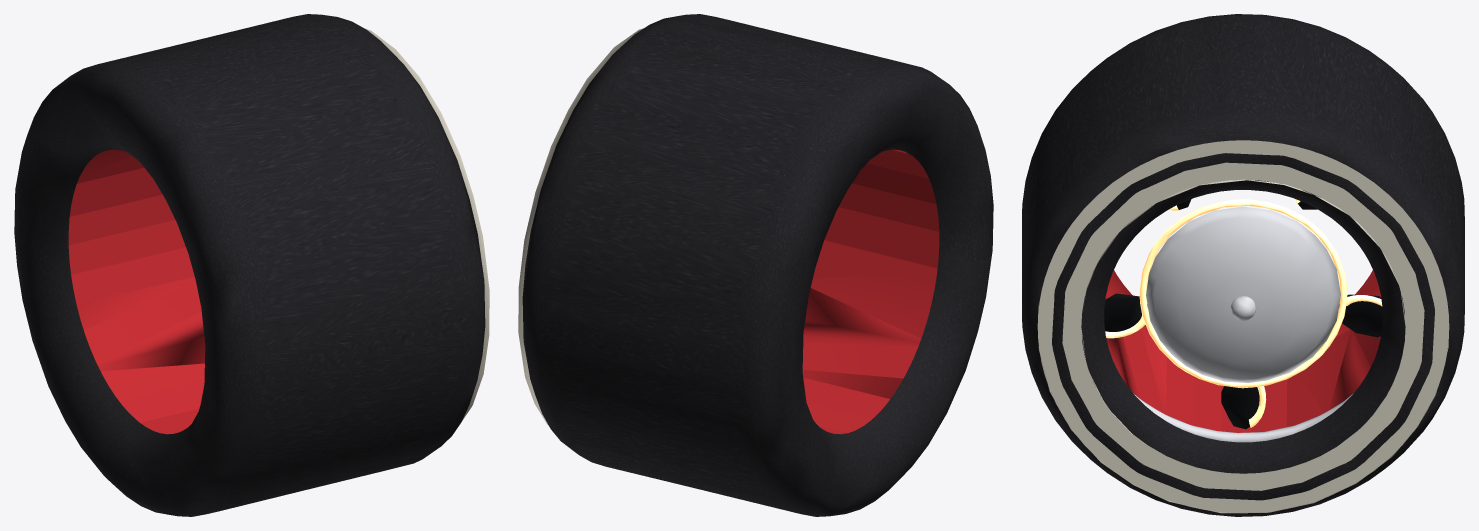
File: tyre-steelie-lp.glb
3 renders of one model, left to right at view 1: azimuth 30°, elevation 25°; view 2: azimuth 150°, elevation 25°; view 3: azimuth 270°, elevation 25°, orthographic. The views are drawn at different scales.
Parts seen in each view (by area): view 1: Tyre_Rubber, Rim, WhiteWall; view 2: Tyre_Rubber, Rim, WhiteWall; view 3: Tyre_Rubber, WhiteWall, Chrome, Rim, LED_Ring, Hub.
Part boxes in pixels (box(x1,y1,x2,y2)): Tyre_Rubber: box(14, 14, 485, 516); Rim: box(68, 149, 205, 434); WhiteWall: box(366, 29, 489, 420); Tyre_Rubber: box(522, 14, 993, 516); Rim: box(802, 149, 939, 434); WhiteWall: box(518, 28, 643, 425); Tyre_Rubber: box(1022, 14, 1464, 516); WhiteWall: box(1037, 140, 1449, 513); Chrome: box(1133, 206, 1353, 442); Rim: box(1105, 270, 1381, 432); LED_Ring: box(1139, 199, 1347, 388); Hub: box(1104, 199, 1382, 429).
Size of the model in its own units: 0.1805 by 0.2734 by 0.2734.
11 materials, 1 textured.
